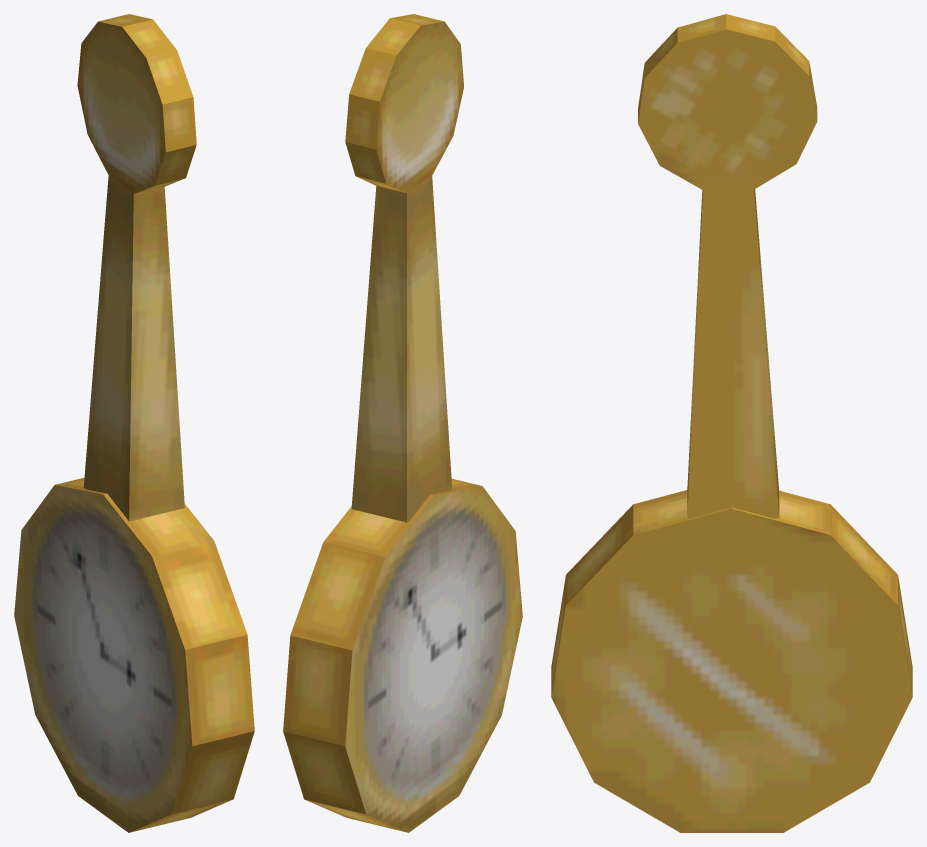
Rendered from Reloj_Pendulo.fbx.
3 views of the same model, side by side, from view 1: azimuth 30°, elevation 25°; view 2: azimuth 150°, elevation 25°; view 3: azimuth 270°, elevation 25° (orthographic).
Parts seen in each view (by area): view 1: Pendulo; view 2: Pendulo; view 3: Pendulo.
Part boxes in pixels (x1=…): Pendulo: x1=14, y1=14, x2=254, y2=832; Pendulo: x1=283, y1=14, x2=522, y2=832; Pendulo: x1=551, y1=14, x2=912, y2=832.
Size of the model in its own units: 0.2461 by 2.96 by 1.22.
